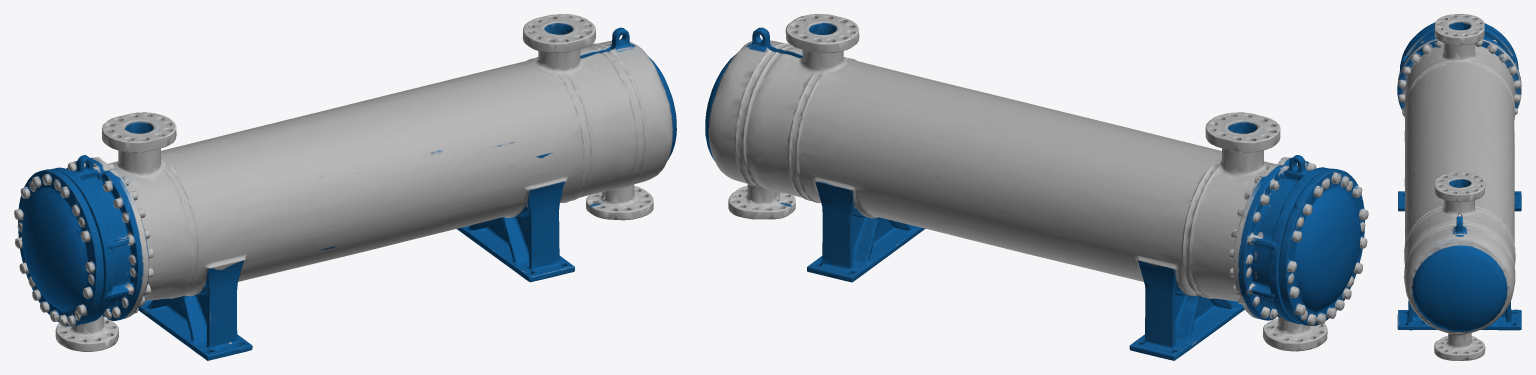
File: M03-heat-exchanger.glb
The picture shows the model from 3 angles, left to right: view 1: azimuth 30°, elevation 25°; view 2: azimuth 150°, elevation 25°; view 3: azimuth 270°, elevation 25°; orthographic projection. The views are drawn at different scales.
Bounding box in the file's own units: 7 × 2.28 × 1.61.
1 material, 1 textured.
